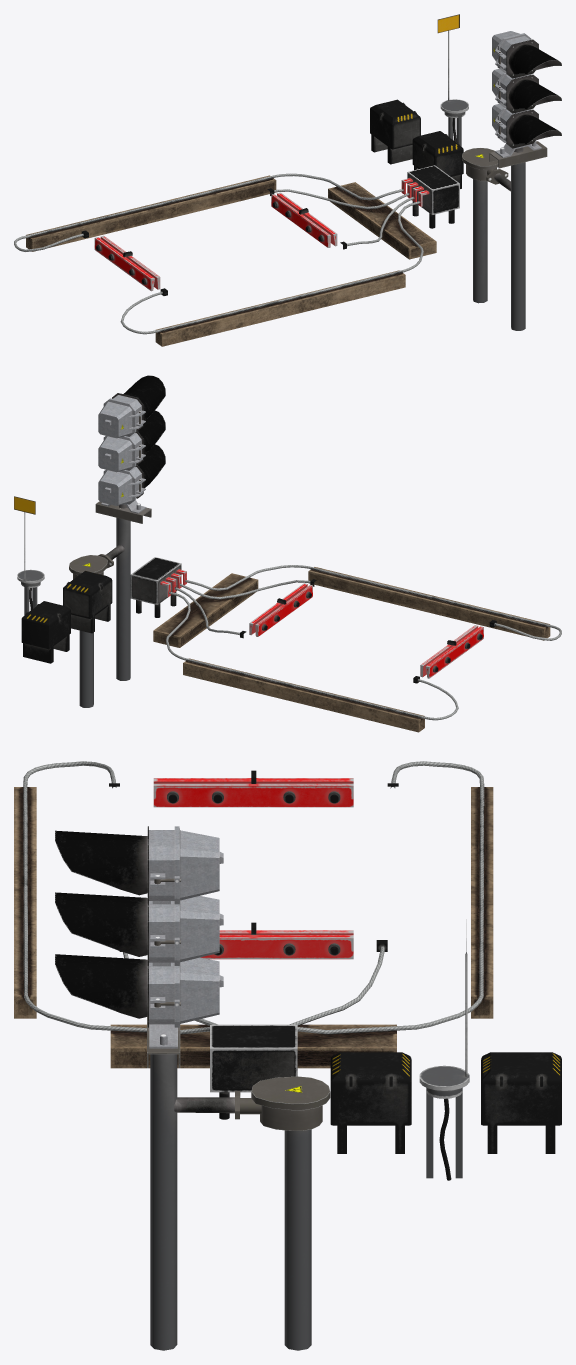
The model's file is RM_sig_P_KM1_YGR_3_entr.gltf.
3 renders of one model, top to bottom at view 1: azimuth 30°, elevation 25°; view 2: azimuth 150°, elevation 25°; view 3: azimuth 270°, elevation 25°, orthographic. The views are drawn at different scales.
Visible parts, largest first — view 1: Изостык, Светофор 3; view 2: Изостык, Светофор 3; view 3: Изостык, Светофор 3.
Boxes of the visible parts, x1,y1,x2,y2 form: Изостык: (14, 14, 468, 346); Светофор 3: (462, 31, 561, 330); Изостык: (14, 496, 561, 732); Светофор 3: (69, 375, 165, 707); Изостык: (14, 761, 561, 1180); Светофор 3: (55, 826, 330, 1350).
Size of the model in its own units: 4.06 by 2.5 by 2.43.
2 materials, 2 textured.
